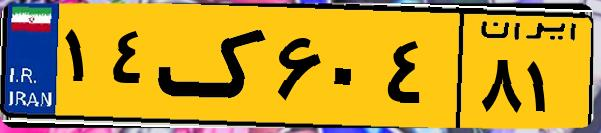0: (330, 28, 385, 110)
1: (57, 26, 110, 100), (525, 38, 570, 115)
4: (385, 28, 445, 110), (110, 28, 158, 98)
6: (270, 28, 330, 110)
8: (475, 38, 525, 113)
ک: (158, 12, 270, 120)
